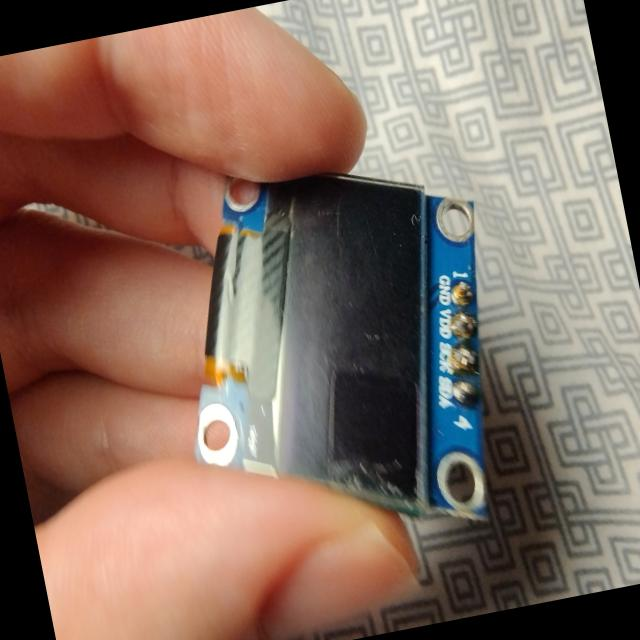oled: (136, 104, 542, 579)
